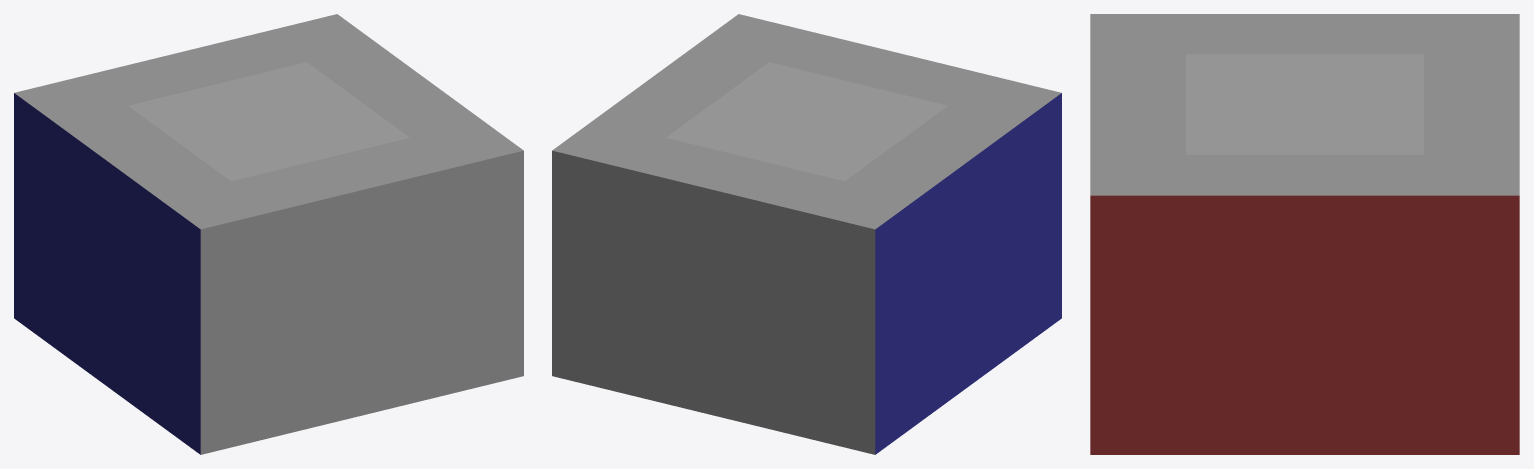
The model's file is Cornell_Small.obj.
3 views of the same model, side by side, from view 1: azimuth 30°, elevation 25°; view 2: azimuth 150°, elevation 25°; view 3: azimuth 270°, elevation 25° (orthographic). The views are drawn at different scales.
Visible parts, largest first — view 1: Cornell_Plane.007; view 2: Cornell_Plane.007; view 3: Cornell_Plane.007.
Part boxes in pixels (x1,y1,x2,y2): Cornell_Plane.007: (14,14,523,454); Cornell_Plane.007: (552,14,1061,454); Cornell_Plane.007: (1090,14,1519,454).
Bounding box in the file's own units: 49.56 × 33.04 × 49.56.
